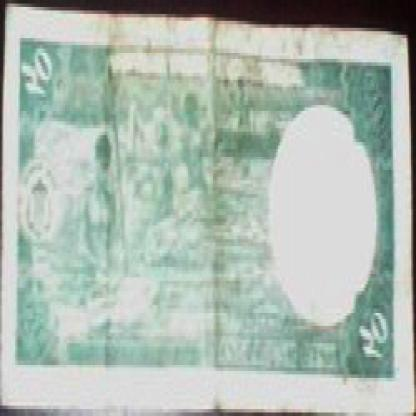Twenty: (348, 315, 399, 382), (13, 38, 68, 97)
